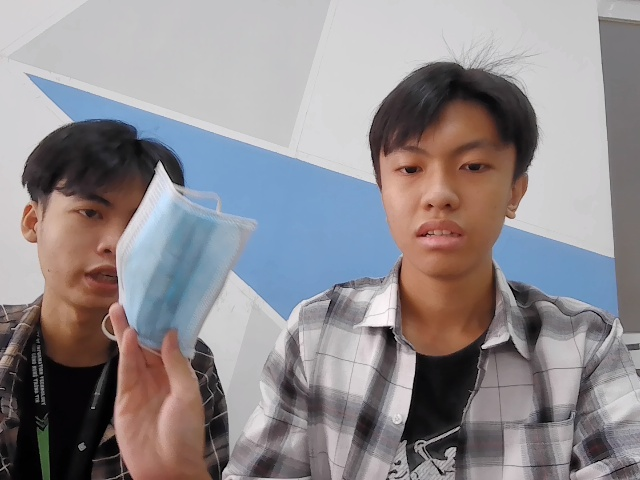human: (365, 58, 541, 292), (28, 131, 177, 320)
mask: (120, 171, 250, 370)
